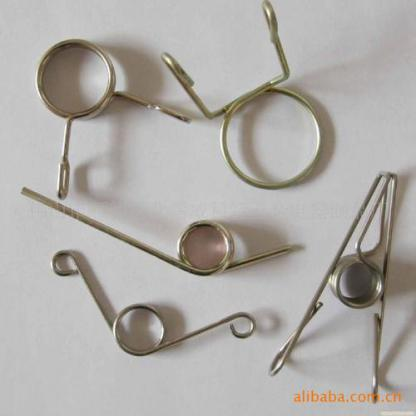FOD: (19, 179, 296, 280), (32, 36, 190, 200), (328, 248, 383, 311)
